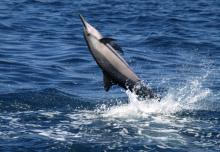fish: (78, 11, 160, 98)
